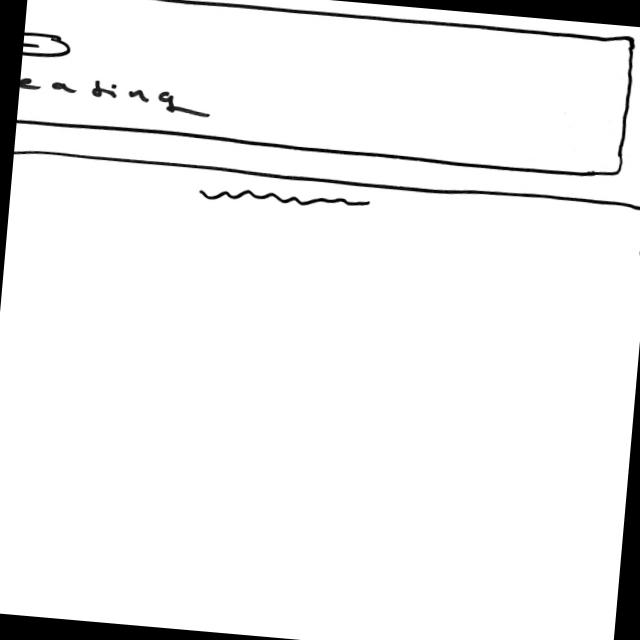container: (17, 1, 639, 181)
icon-button: (23, 29, 72, 61)
label: (19, 67, 213, 121)
text: (200, 184, 370, 217)
